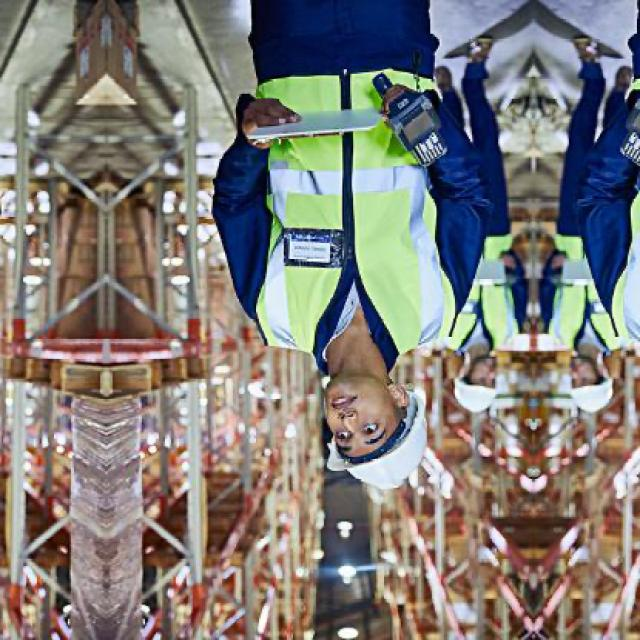con casco: (245, 332, 456, 518), (432, 328, 506, 422), (561, 342, 622, 426)
